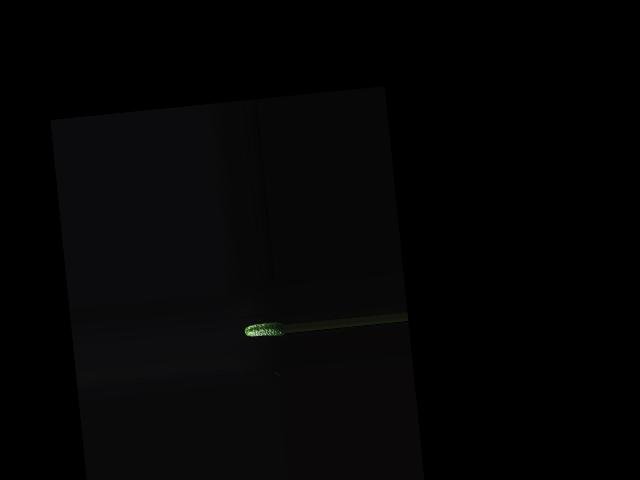cucumber: (244, 321, 286, 339)
